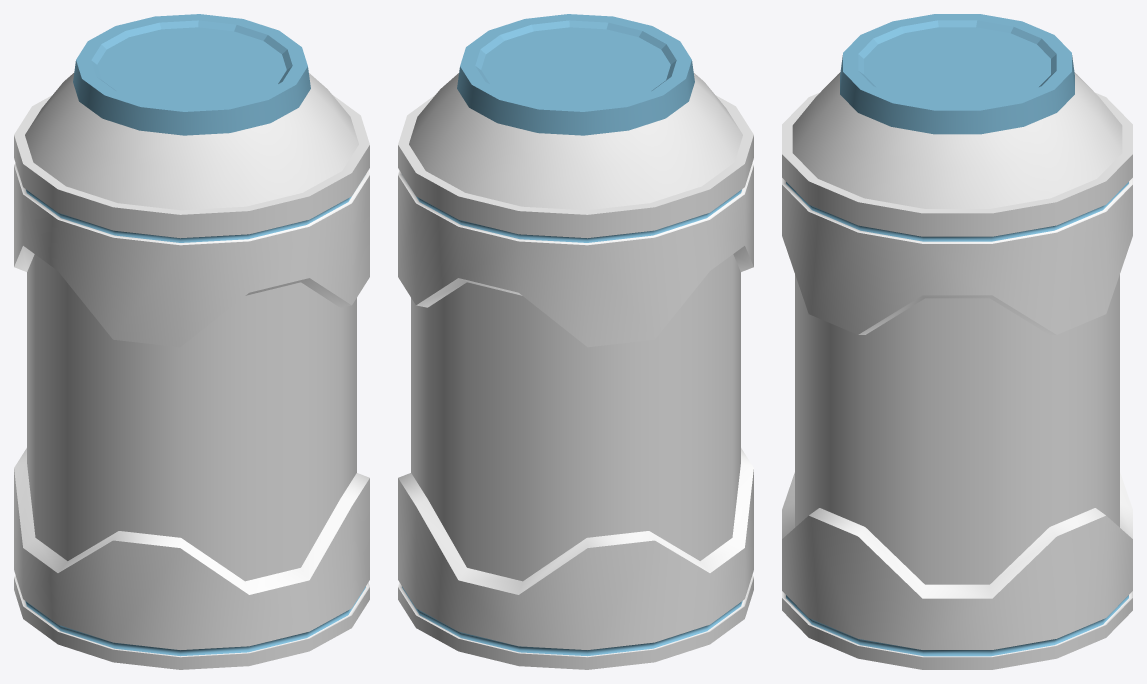
The model's file is Props_Capsule.006.fbx.
The picture shows the model from 3 angles, left to right: view 1: azimuth 30°, elevation 25°; view 2: azimuth 150°, elevation 25°; view 3: azimuth 270°, elevation 25°; orthographic projection.
Visible parts, largest first — view 1: Props_Capsule.006; view 2: Props_Capsule.006; view 3: Props_Capsule.006.
Part boxes in pixels (x1,y1,x2,y2): Props_Capsule.006: (14, 14, 369, 669); Props_Capsule.006: (398, 14, 753, 669); Props_Capsule.006: (782, 14, 1132, 669).
Size of the model in its own units: 0.8587 by 1.44 by 0.8587.
